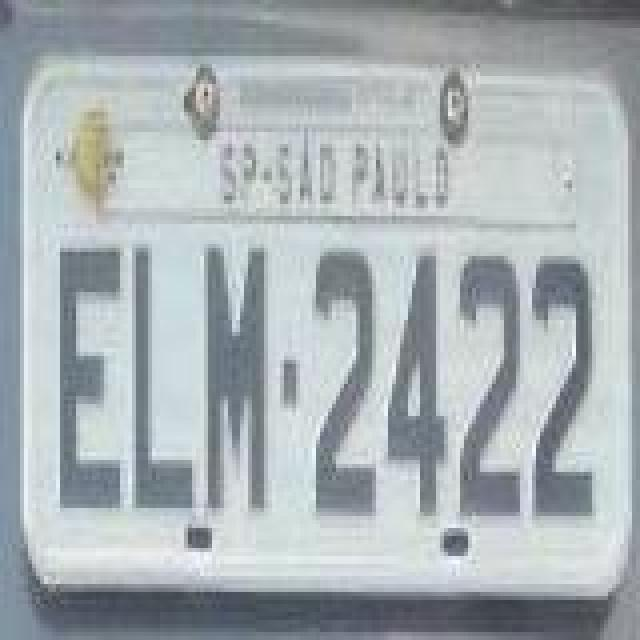2: (312, 248, 376, 520), (456, 252, 520, 516), (528, 252, 592, 516)
4: (386, 248, 446, 520)
E: (56, 244, 120, 516)
L: (134, 248, 194, 512)
M: (204, 244, 268, 516)
